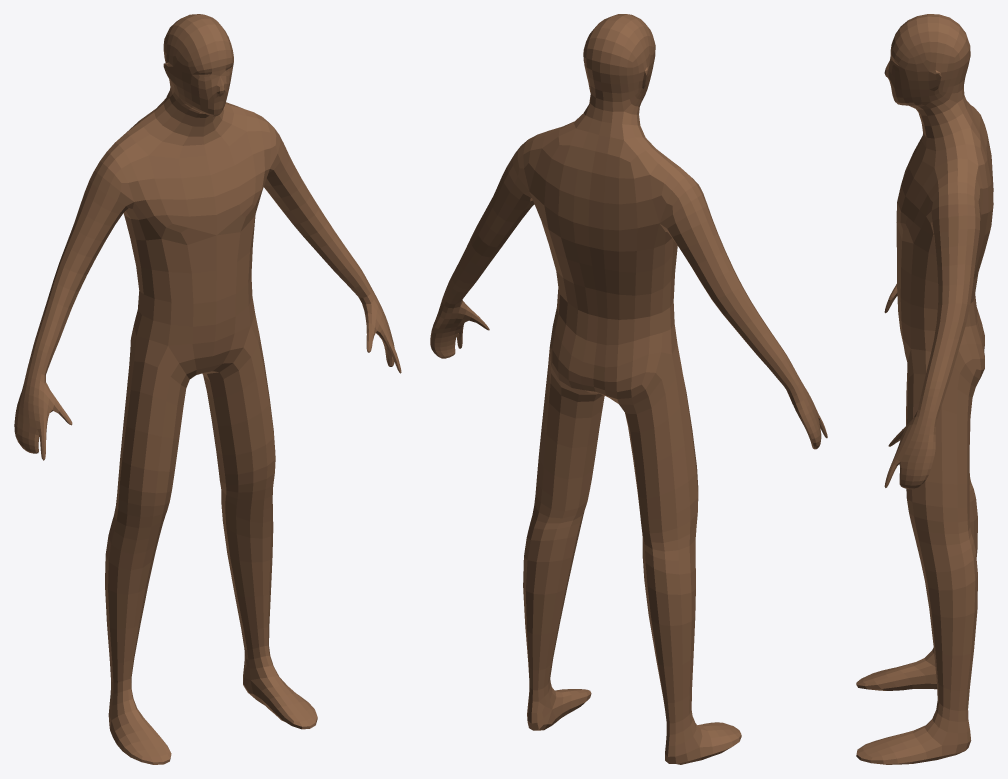
Rendered from Player.obj.
The picture shows the model from 3 angles, left to right: view 1: azimuth 30°, elevation 25°; view 2: azimuth 150°, elevation 25°; view 3: azimuth 270°, elevation 25°; orthographic projection. The views are drawn at different scales.
Visible parts, largest first — view 1: Male.002; view 2: Male.002; view 3: Male.002.
Part boxes in pixels (<box>): Male.002: <box>14,14,401,764</box>; Male.002: <box>430,14,827,764</box>; Male.002: <box>856,14,993,764</box>.
Size of the model in its own units: 0.9706 by 1.74 by 0.3067.
